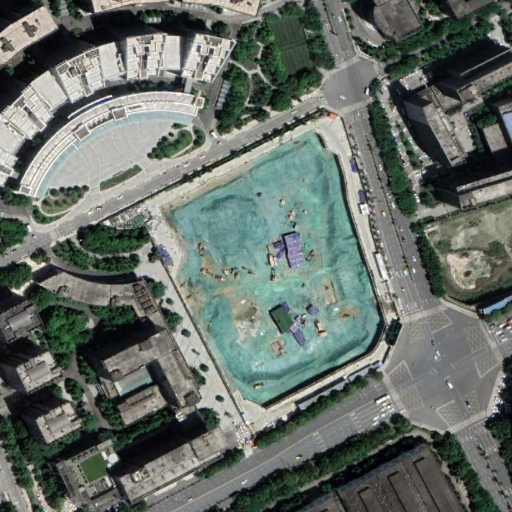cw: (162, 131, 385, 412)
